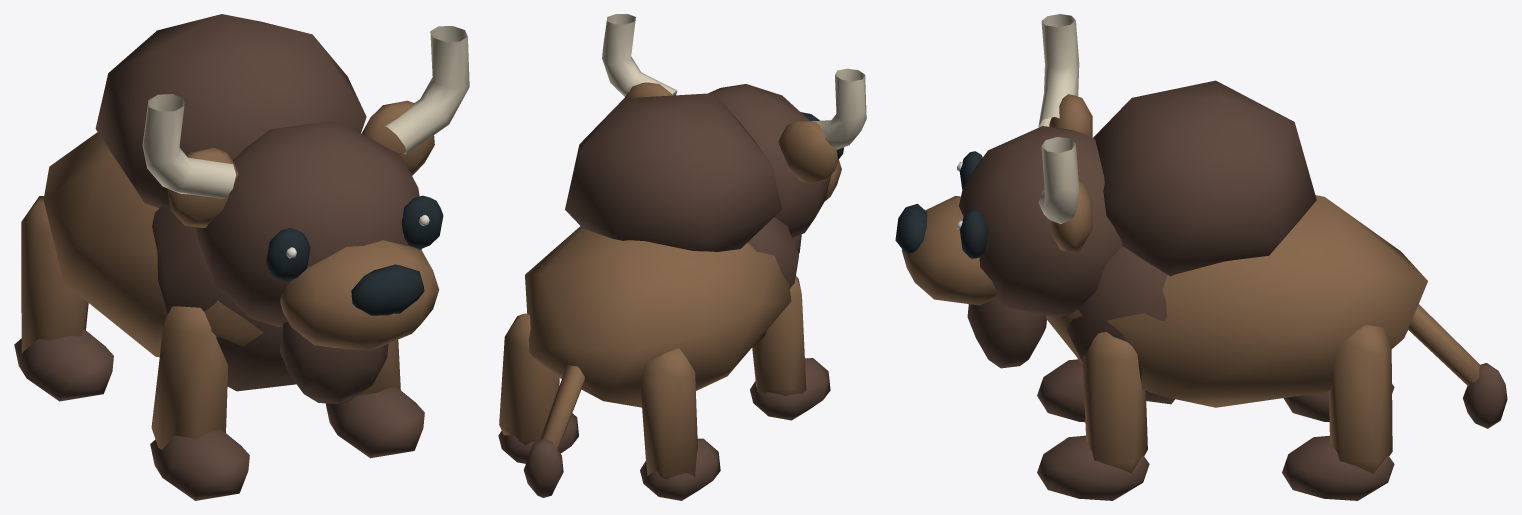
File: org_bison.glb
3 views of the same model, side by side, from view 1: azimuth 30°, elevation 25°; view 2: azimuth 150°, elevation 25°; view 3: azimuth 270°, elevation 25° (orthographic). The views are drawn at different scales.
Visible parts, largest first — view 1: Head, Body, Leg_FR, Leg_BR, Leg_FL, Eye_R, Eye_L; view 2: Body, Head, Leg_BR, Leg_FR, Leg_BL, Tail; view 3: Body, Head, Leg_BL, Leg_FL, Tail, Leg_FR, Eye_L, Leg_BR.
Part boxes in pixels (left/top/right/bottom): Head: left=142, top=26, right=469, bottom=403; Body: left=43, top=14, right=366, bottom=391; Leg_FR: left=150, top=306, right=249, bottom=500; Leg_BR: left=14, top=196, right=113, bottom=401; Leg_FL: left=325, top=339, right=424, bottom=458; Eye_R: left=266, top=228, right=310, bottom=281; Eye_L: left=401, top=195, right=443, bottom=249; Body: left=525, top=93, right=798, bottom=407; Head: left=602, top=14, right=866, bottom=254; Leg_BR: left=640, top=348, right=720, bottom=500; Leg_FR: left=750, top=276, right=830, bottom=420; Leg_BL: left=498, top=313, right=578, bottom=463; Tail: left=523, top=365, right=584, bottom=497; Body: left=1046, top=80, right=1427, bottom=407; Head: left=895, top=14, right=1122, bottom=368; Leg_BL: left=1282, top=325, right=1394, bottom=500; Leg_FL: left=1037, top=331, right=1149, bottom=500; Tail: left=1408, top=304, right=1507, bottom=428; Leg_FR: left=1037, top=359, right=1085, bottom=422; Eye_L: left=956, top=209, right=988, bottom=258; Leg_BR: left=1283, top=384, right=1394, bottom=422.
Bounding box in the file's own units: 1.46 × 1.8 × 2.65.
